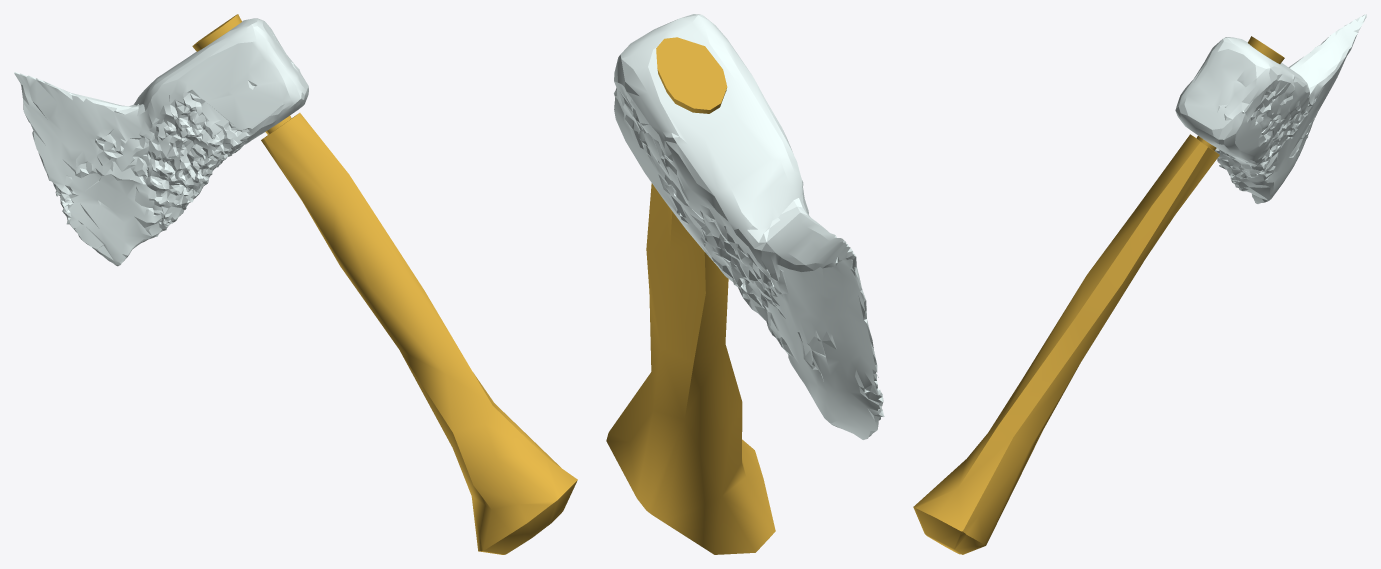
Rendered from axe-iron-63.glb.
The picture shows the model from 3 angles, left to right: view 1: azimuth 30°, elevation 25°; view 2: azimuth 150°, elevation 25°; view 3: azimuth 270°, elevation 25°; orthographic projection. The views are drawn at different scales.
Parts seen in each view (by area): view 1: iron-axe-head, iron-axe; view 2: iron-axe-head, iron-axe; view 3: iron-axe, iron-axe-head.
Part boxes in pixels (x1=…): iron-axe-head: x1=14, y1=18, x2=308, y2=266; iron-axe: x1=192, y1=14, x2=577, y2=554; iron-axe-head: x1=614, y1=14, x2=884, y2=439; iron-axe: x1=606, y1=37, x2=775, y2=554; iron-axe: x1=913, y1=36, x2=1284, y2=554; iron-axe-head: x1=1175, y1=14, x2=1366, y2=203.
Bounding box in the file's own units: 0.7016 × 0.8652 × 0.7749.
